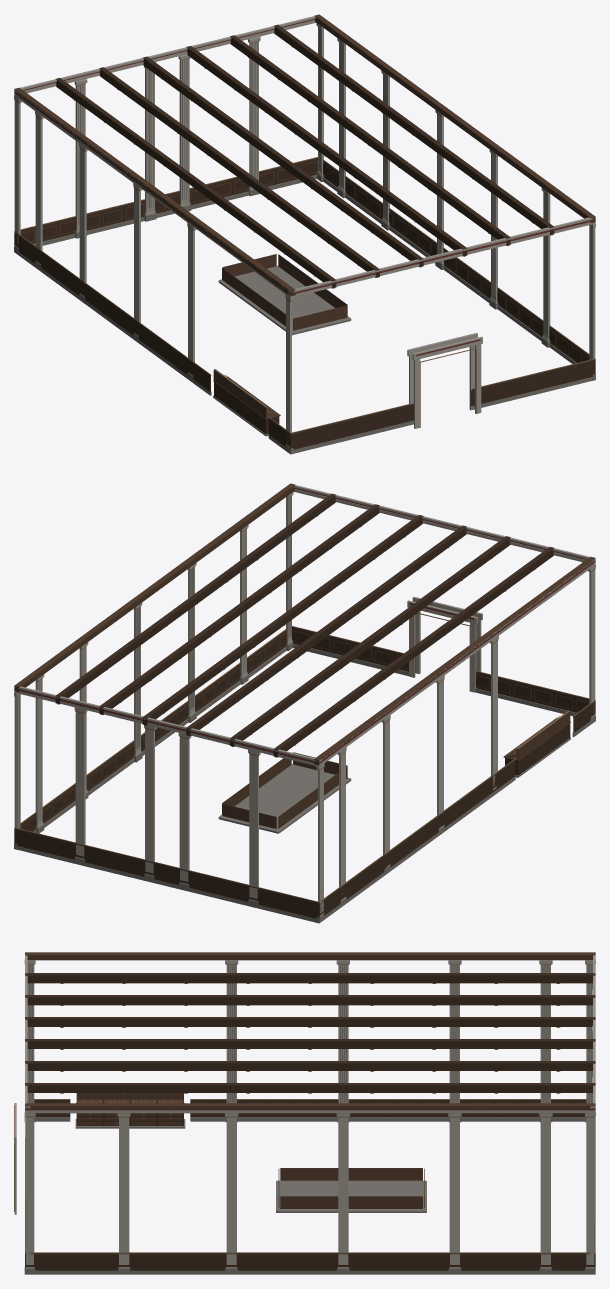
Rendered from rewrite.glb.
The picture shows the model from 3 angles, top to bottom: view 1: azimuth 30°, elevation 25°; view 2: azimuth 150°, elevation 25°; view 3: azimuth 270°, elevation 25°; orthographic projection. The views are drawn at different scales.
Visible parts, largest first — view 1: m5_rewrite; view 2: m5_rewrite; view 3: m5_rewrite.
Part boxes in pixels (box(x1,y1,x2,y2)): m5_rewrite: box(14, 14, 595, 454); m5_rewrite: box(14, 483, 595, 923); m5_rewrite: box(14, 952, 595, 1274).
Size of the model in its own units: 17.6 by 9 by 28.15.
